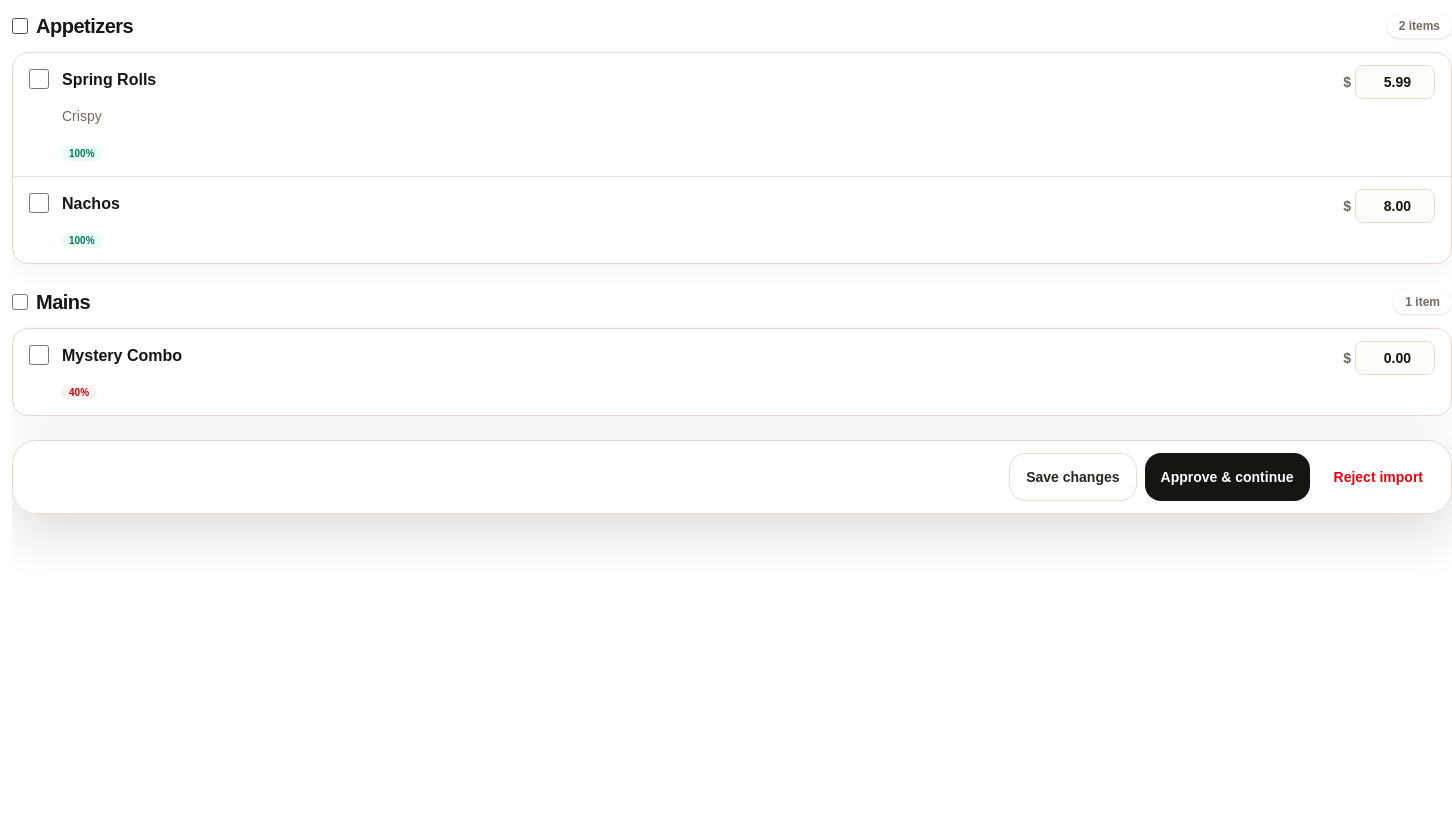
Test: ReviewEditor — bulk selection (Sprint 18 Part 5) › shows a bulk action bar only once an item is selected
The width and height of the screenshot is (1452, 822).
Expected: the text "Delete selected" is not shown
Click the checkbox named "Select Mystery Combo": (39, 355) [29,345,49,365]
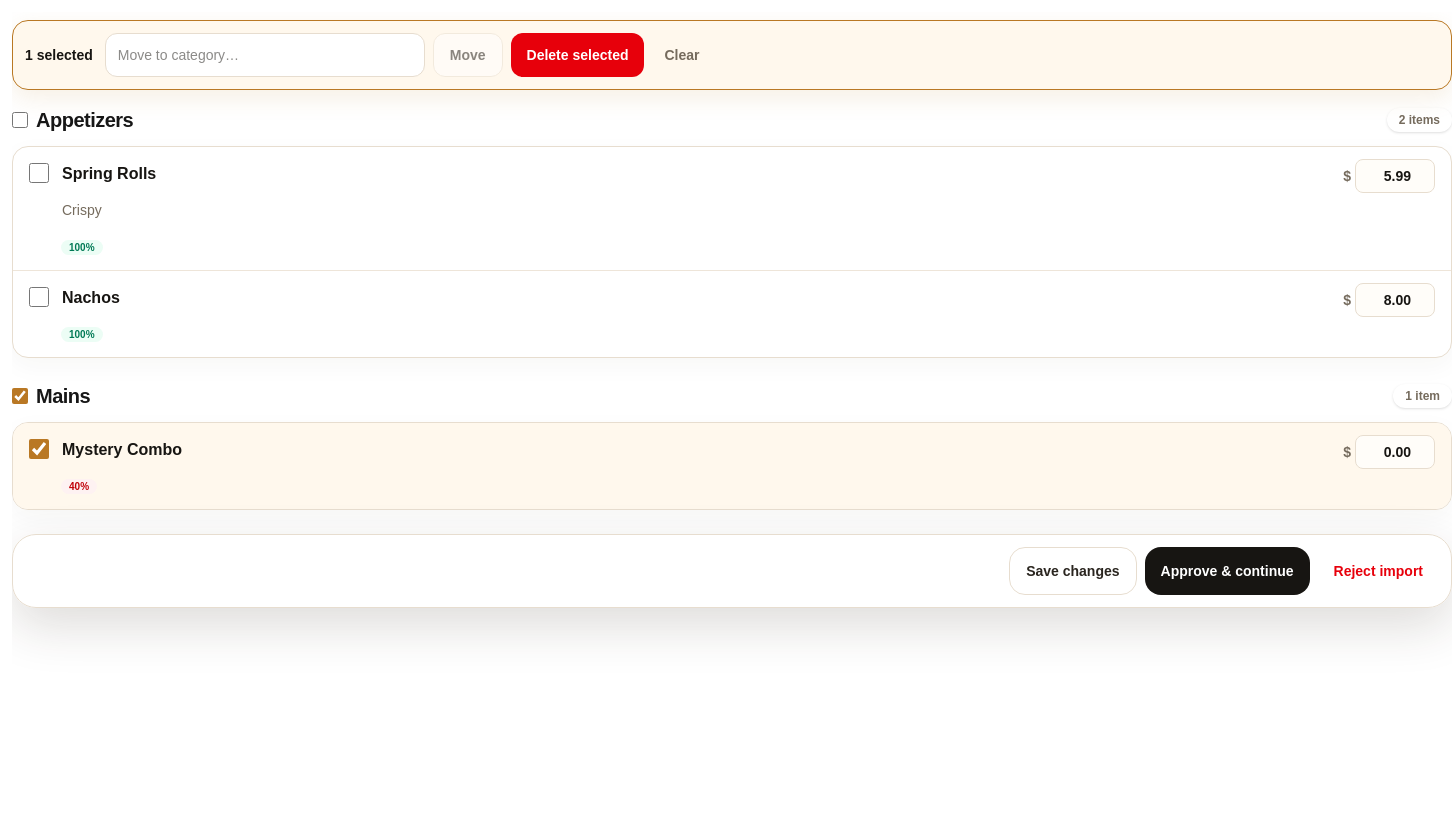
Expected: the text "1 selected" is shown, [25,45,93,65]
Expected: the button "Delete selected" is shown, [510,33,644,77]
